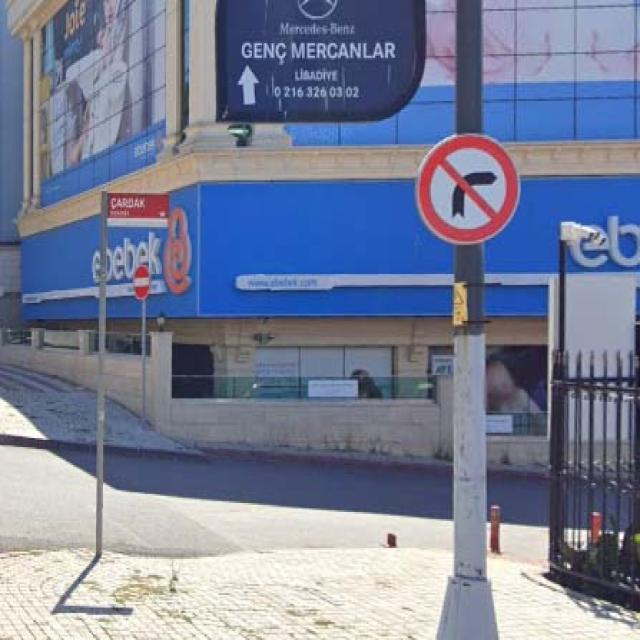girisyok: (133, 265, 150, 299)
sagadonulmez: (415, 134, 520, 244)
